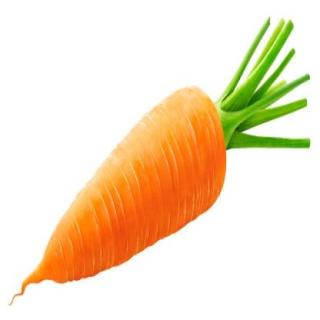Wortel: (44, 85, 227, 285)
